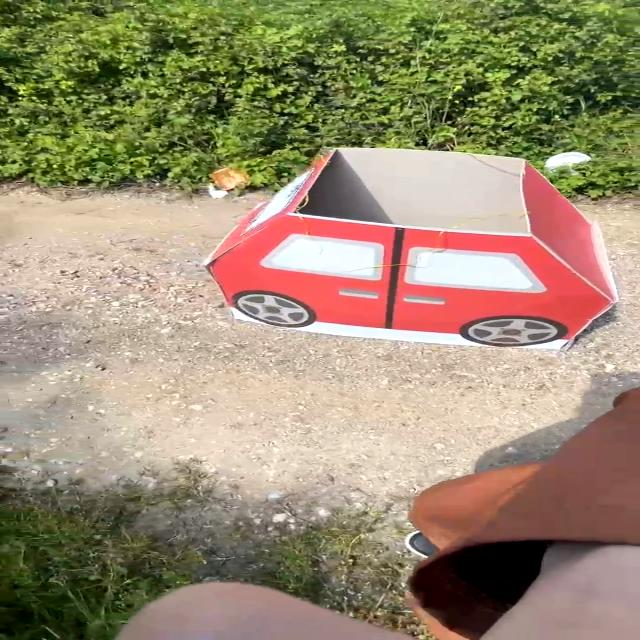red_car: (178, 129, 640, 364)
